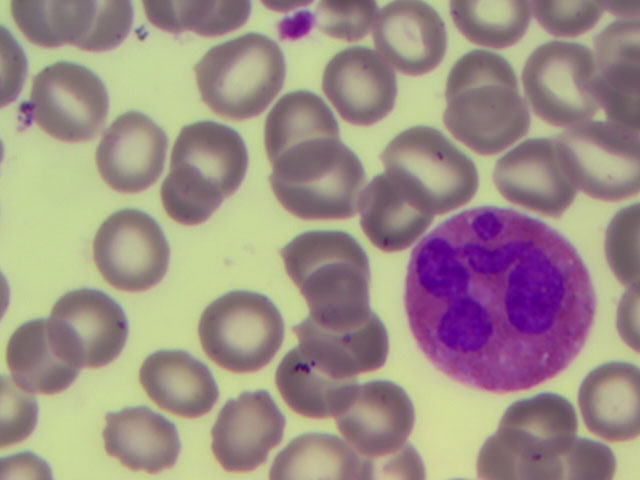Platelets: (274, 7, 315, 47)
RBC: (26, 60, 111, 148), (97, 109, 182, 197), (174, 104, 259, 192), (146, 157, 231, 245), (86, 206, 171, 294), (70, 271, 155, 359), (4, 308, 89, 396), (96, 392, 181, 480), (130, 345, 215, 433), (200, 280, 285, 368), (280, 207, 365, 295), (300, 258, 385, 346), (309, 299, 394, 387), (206, 390, 291, 478), (276, 339, 361, 427), (346, 376, 431, 464), (495, 383, 580, 471), (555, 354, 640, 442), (555, 123, 640, 211), (501, 129, 586, 217), (391, 122, 476, 210), (347, 170, 432, 258), (280, 146, 365, 234), (259, 89, 344, 177), (186, 26, 271, 114), (314, 49, 399, 137), (369, 4, 454, 92), (436, 27, 521, 115), (437, 71, 522, 159), (523, 44, 608, 132)
WBC: (404, 206, 589, 393)
